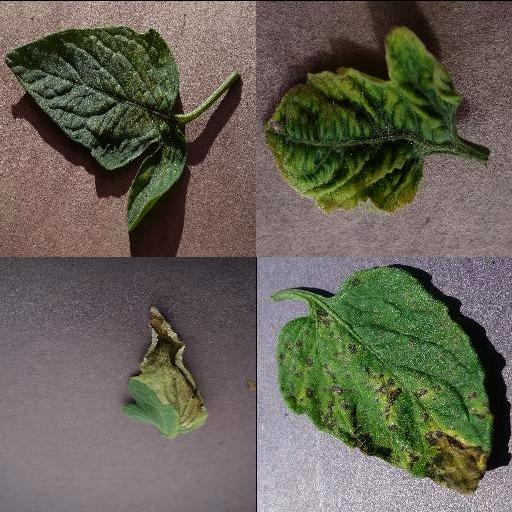Late Blight: (126, 301, 210, 431)
Septoria: (276, 267, 492, 492)
Spider Mites: (4, 25, 188, 231)
Yellow Leaf Curl Virus: (262, 25, 464, 209)
